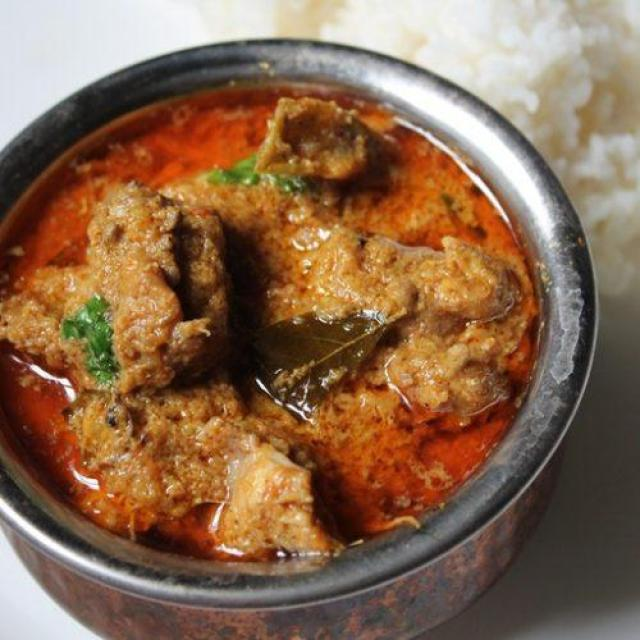chicken: (26, 63, 541, 574)
